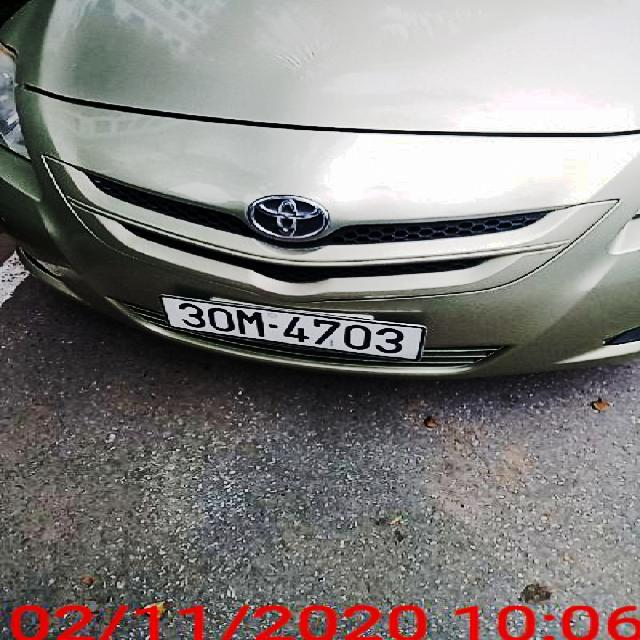license_plate: (162, 295, 424, 361)
